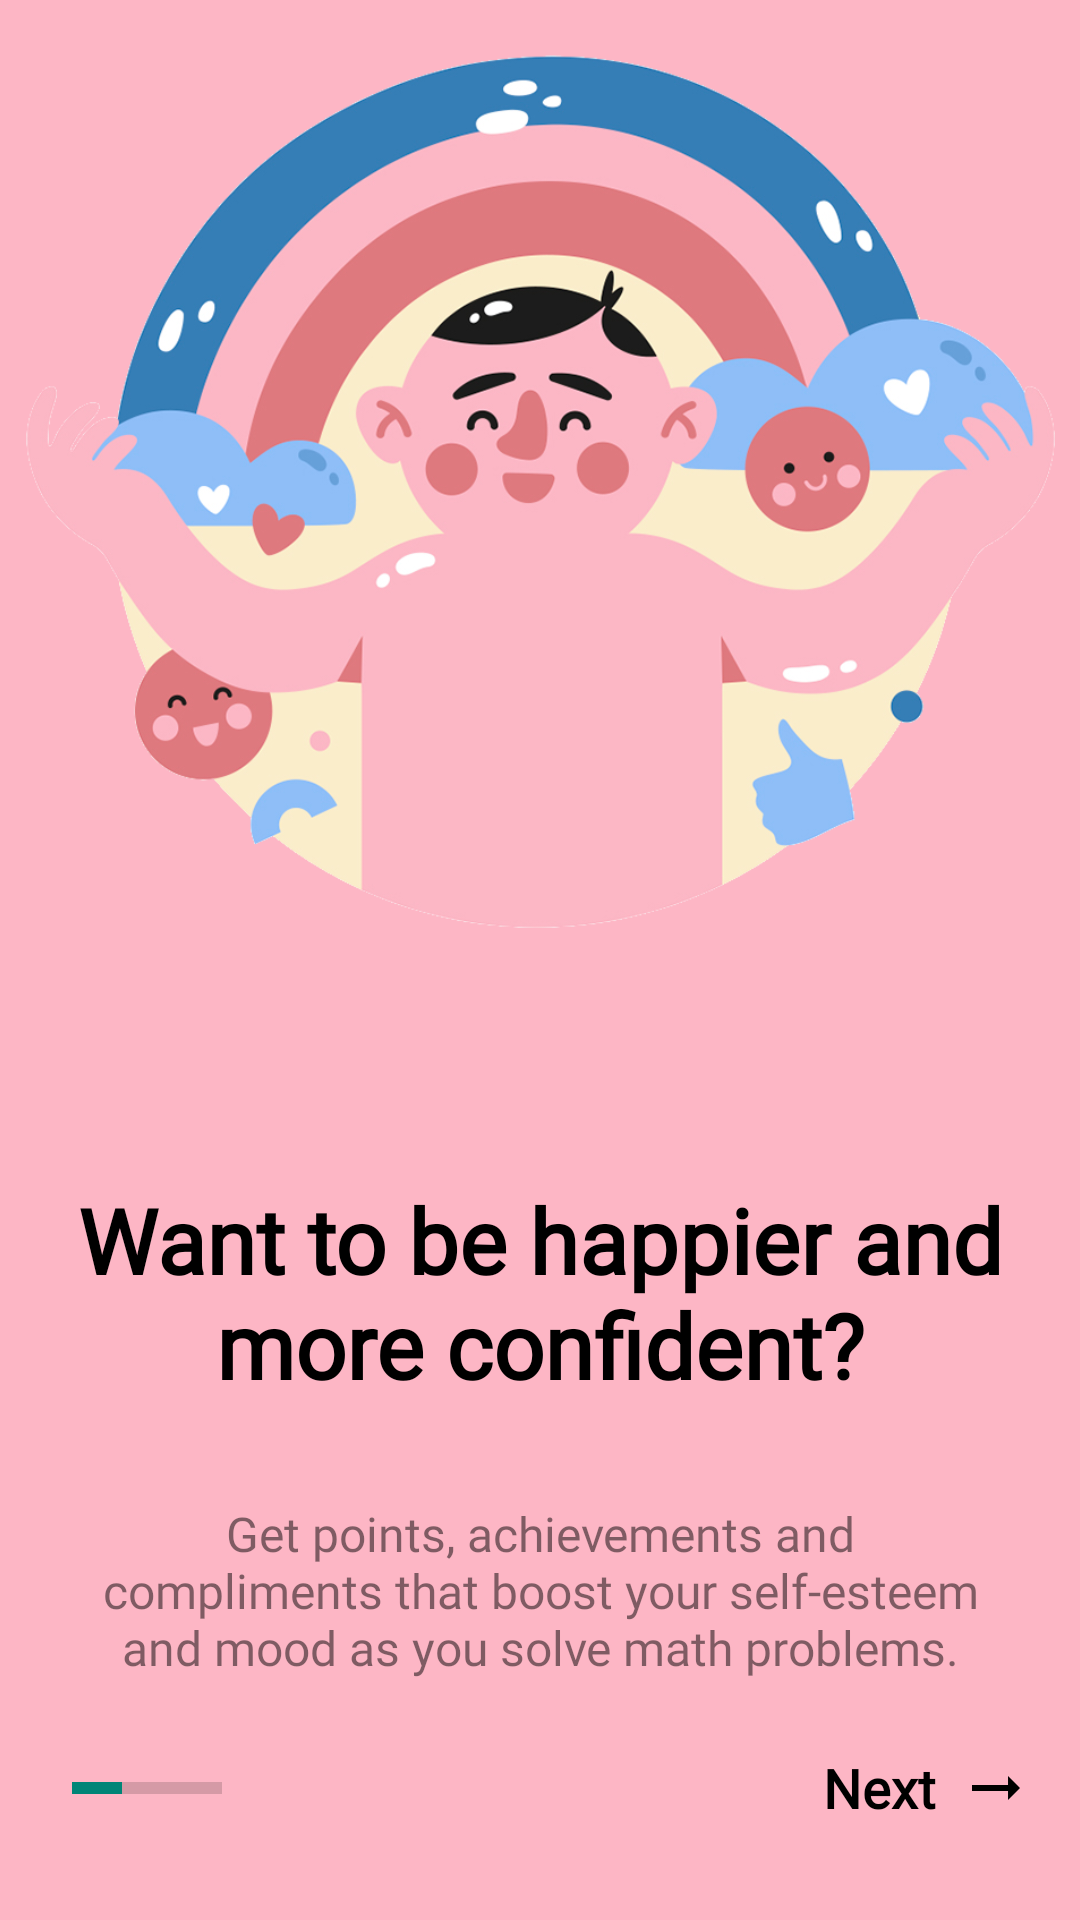

Icon bounding boxes for this 1080px x 1920px phone screenshot, format (x1, y1, x2, y2):
arrow right: (972, 1776, 1020, 1800)
